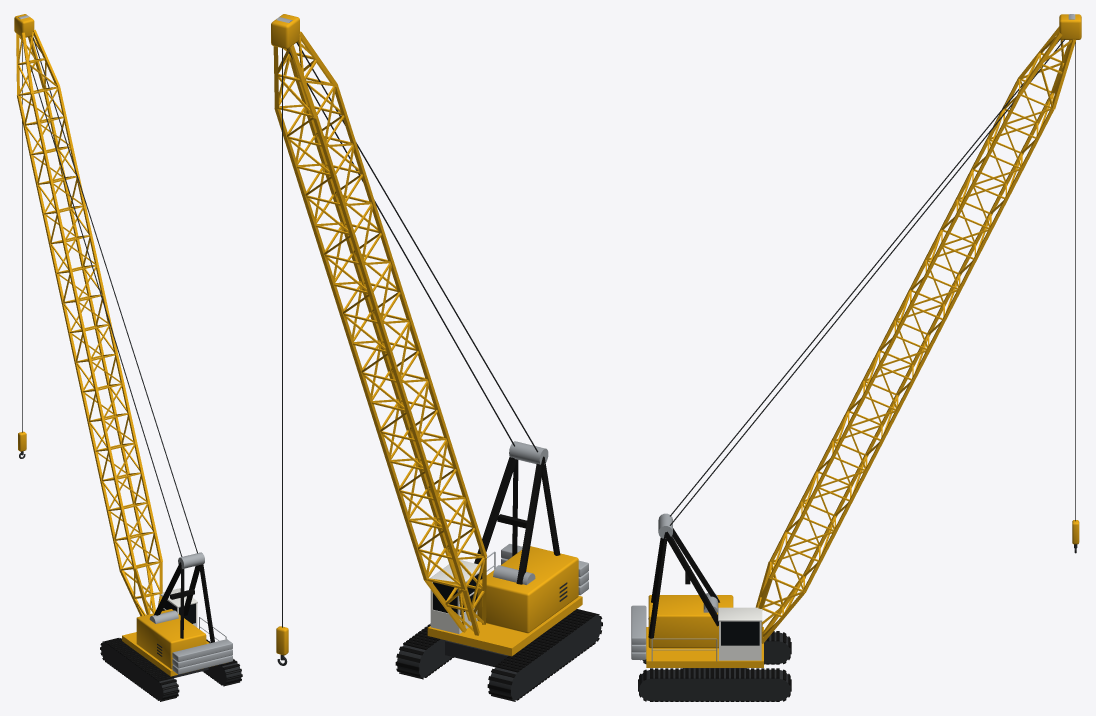
Rendered from plant.lifting.crawler_crane.glb.
3 views of the same model, side by side, from view 1: azimuth 30°, elevation 25°; view 2: azimuth 150°, elevation 25°; view 3: azimuth 270°, elevation 25° (orthographic). The views are drawn at different scales.
Visible parts, largest first — view 1: boom__plant_yellow, upper__plant_yellow, tracks__steel_dark, upper__steel_galvanised, boom__steel_dark, tracks__plastic_black, upper__plastic_black, hook__steel_dark; view 2: boom__plant_yellow, upper__plant_yellow, tracks__steel_dark, tracks__plastic_black, upper__plastic_black, upper__steel_galvanised, boom__steel_dark, upper__paint_white, hook__steel_dark, upper__glass_dark; view 3: boom__plant_yellow, upper__plant_yellow, tracks__steel_dark, upper__plastic_black, boom__steel_dark, tracks__plastic_black, upper__steel_galvanised, upper__paint_white, upper__glass_dark.
Part boxes in pixels (x1,y1,x2,y2): boom__plant_yellow: (14, 14, 162, 616); upper__plant_yellow: (122, 609, 209, 676); tracks__steel_dark: (101, 639, 241, 700); upper__steel_galvanised: (149, 552, 232, 674); boom__steel_dark: (21, 37, 197, 556); tracks__plastic_black: (100, 638, 242, 701); upper__plastic_black: (154, 562, 214, 642); hook__steel_dark: (19, 42, 25, 458); boom__plant_yellow: (271, 14, 486, 635); upper__plant_yellow: (427, 546, 582, 656); tracks__steel_dark: (397, 612, 601, 700); tracks__plastic_black: (395, 609, 602, 701); upper__plastic_black: (474, 456, 560, 584); upper__steel_galvanised: (486, 441, 588, 595); boom__steel_dark: (287, 42, 538, 452); upper__paint_white: (430, 559, 480, 634); hook__steel_dark: (277, 48, 287, 665); upper__glass_dark: (433, 573, 482, 614); boom__plant_yellow: (755, 14, 1081, 643); upper__plant_yellow: (646, 595, 763, 667); tracks__steel_dark: (638, 632, 790, 701); upper__plastic_black: (648, 528, 719, 638); boom__steel_dark: (669, 39, 1064, 525); tracks__plastic_black: (638, 631, 791, 701); upper__steel_galvanised: (631, 513, 718, 661); upper__paint_white: (718, 607, 762, 660); upper__glass_dark: (721, 621, 759, 645).
Bounding box in the file's own units: 4.5 × 29.79 × 18.36.
